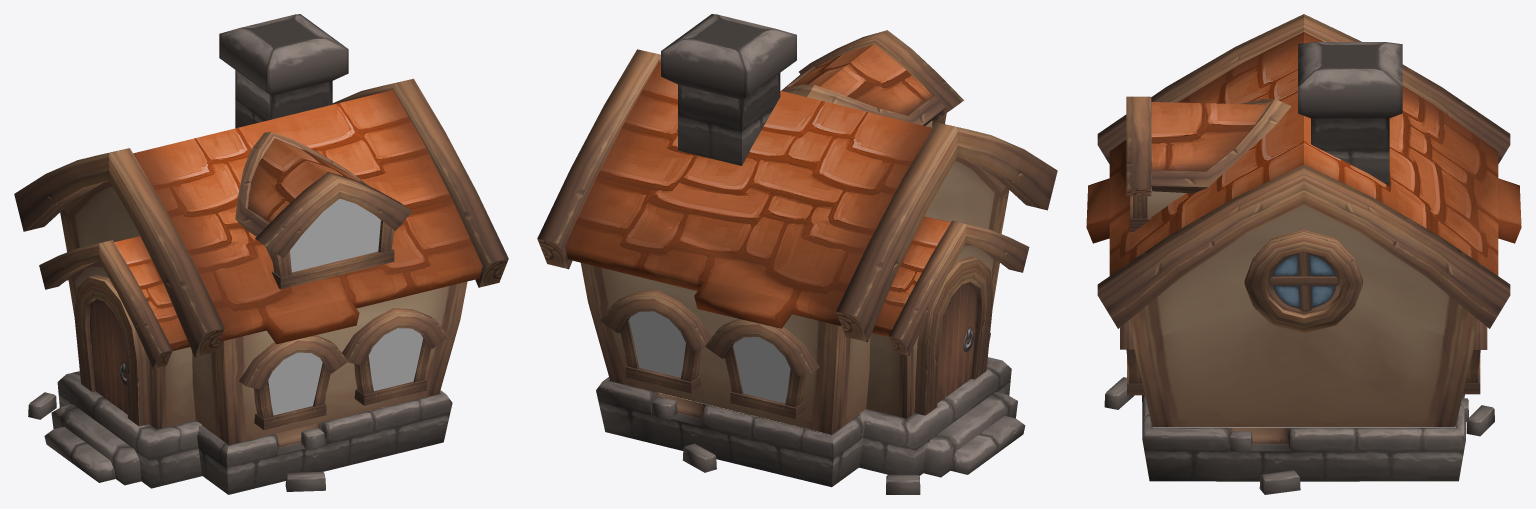
Rendered from building-1.FBX.
3 views of the same model, side by side, from view 1: azimuth 30°, elevation 25°; view 2: azimuth 150°, elevation 25°; view 3: azimuth 270°, elevation 25° (orthographic). The views are drawn at different scales.
Visible parts, largest first — view 1: building-1, building-1 lights on; view 2: building-1, building-1 lights on; view 3: building-1.
Boxes of the visible parts, <box> form: building-1: <box>14,14,508,494</box>; building-1 lights on: <box>268,198,423,415</box>; building-1: <box>537,14,1057,494</box>; building-1 lights on: <box>629,311,790,403</box>; building-1: <box>1086,14,1521,494</box>.
Bounding box in the file's own units: 1087 × 1085 × 1100.
